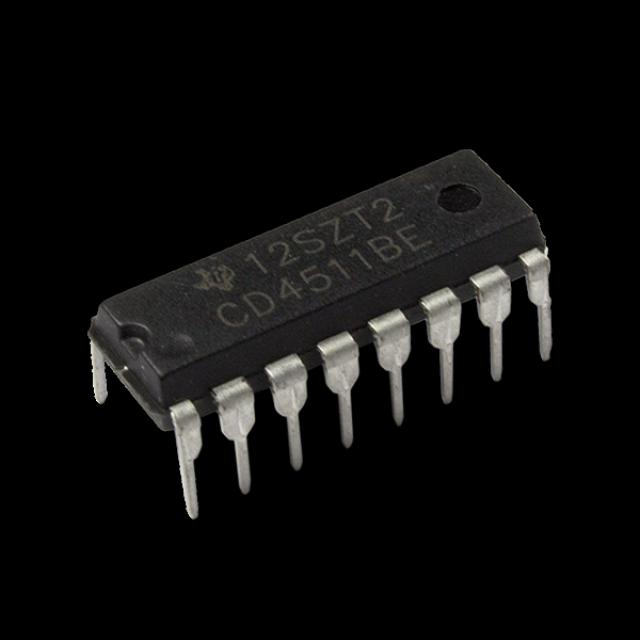IC: (90, 152, 548, 526)
